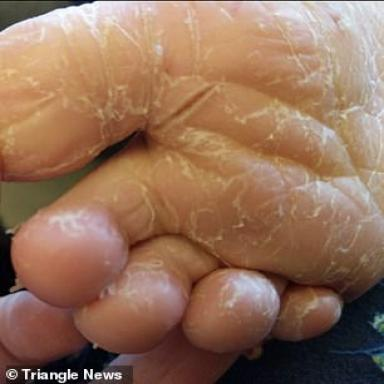eczema: (2, 3, 382, 297), (108, 235, 220, 333), (194, 269, 280, 330), (272, 284, 343, 341)
